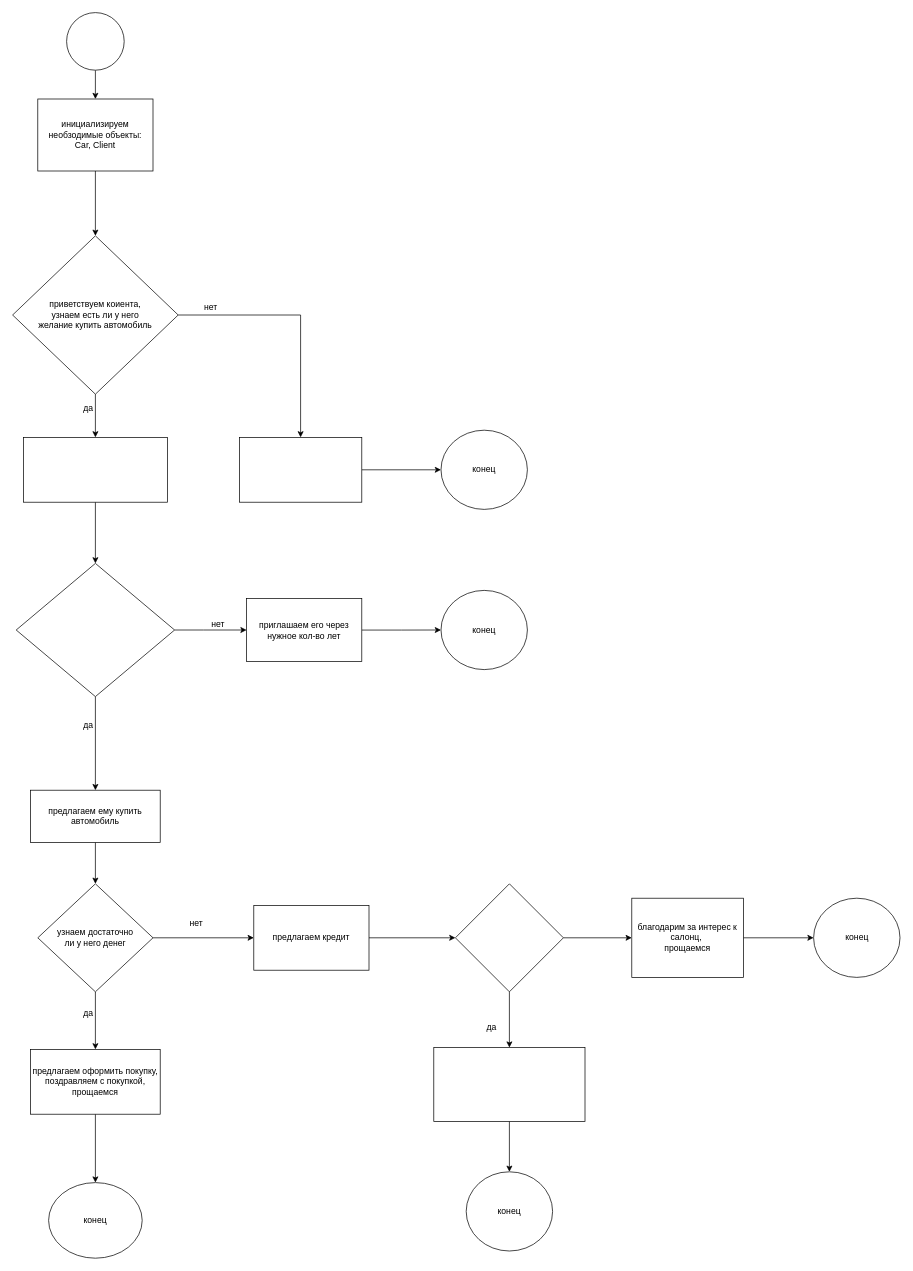
This 913x1271 diagram has some shape labels left out. The shapes that lost their labels are listed below. From the top down, each one's centre as x and y in pixels, then its label:
point 95,41: начало
point 95,469: предлагаем осмотреться
point 300,469: желаем ему хорошей екскурсии по салону, прощаемся
point 95,630: узнаем достаточно ли он взрослый для докупки
point 509,937: узнаем согласен ли он на кредит
point 509,1084: оформляем кредит, оформляем покупку, поздравляем, прощаемся
